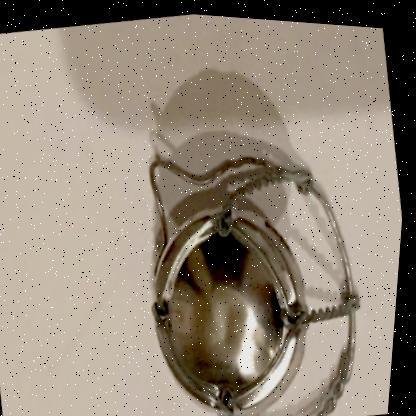Metal: (152, 152, 365, 416)
